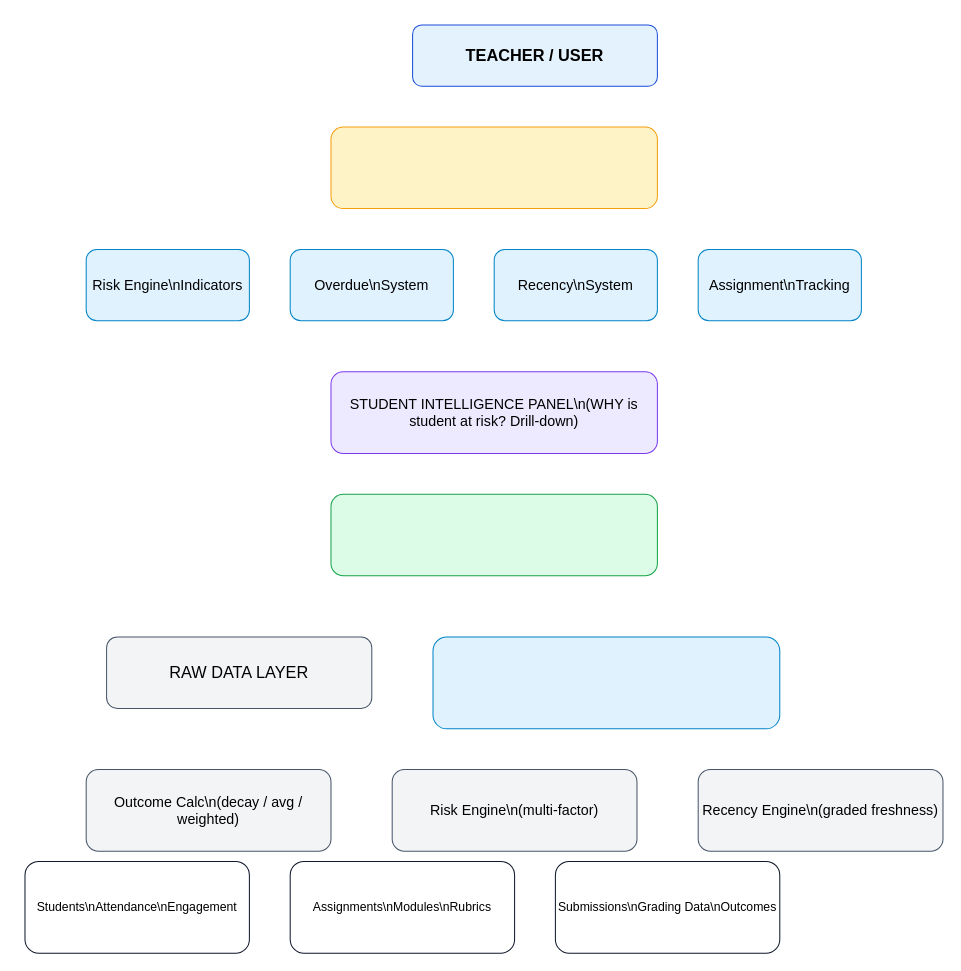
This 961x971 diagram has some shape labels left out. The box of each missing label's shape, as (x1, y1, x2, y2) in pixels:
HEATMAP VIEW\n(Outcome-level mastery visualization): (330, 493, 657, 576)
INTELLIGENCE ENGINE\n(core scoring + logic layer): (432, 636, 780, 729)
STUDENT COCKPIT\n(Daily action + risk + overview): (330, 126, 657, 209)
